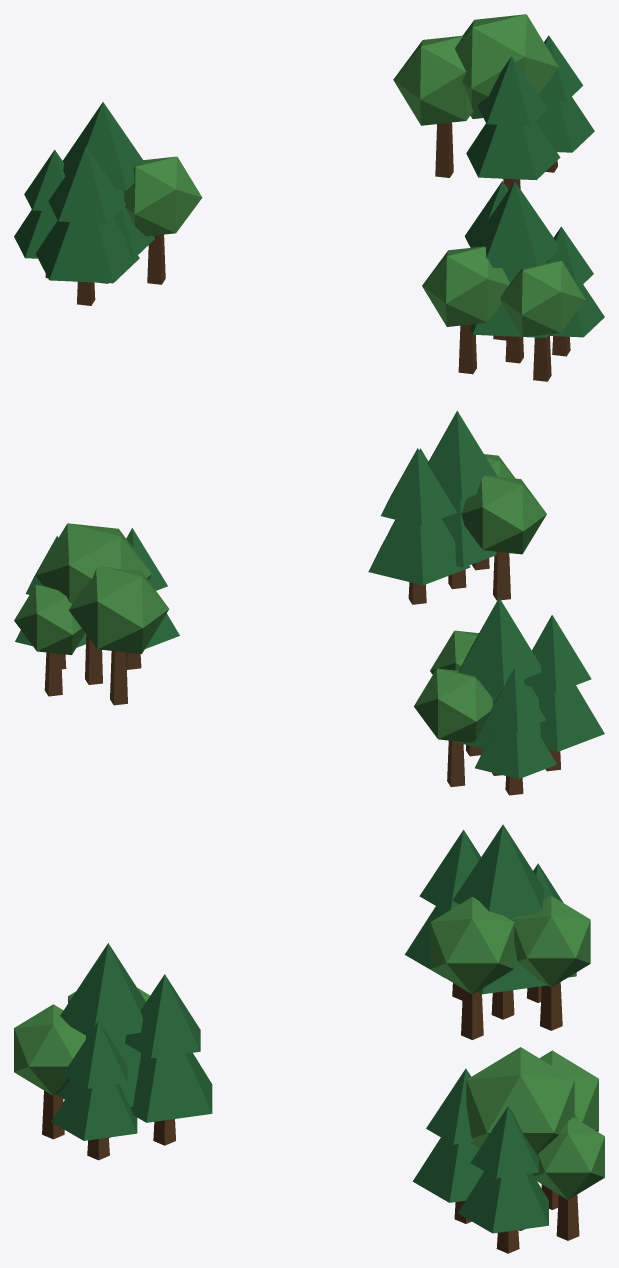
File: forest-around.glb
3 renders of one model, top to bottom at view 1: azimuth 30°, elevation 25°; view 2: azimuth 150°, elevation 25°; view 3: azimuth 270°, elevation 25°, orthographic. The views are drawn at different scales.
Parts seen in each view (by area): view 1: forest-around; view 2: forest-around; view 3: forest-around.
Part boxes in pixels (bbox=[...]): forest-around: bbox=[14, 14, 604, 381]; forest-around: bbox=[14, 411, 604, 795]; forest-around: bbox=[14, 824, 604, 1253].
Size of the model in its own units: 0.7997 by 0.24 by 0.6737.
